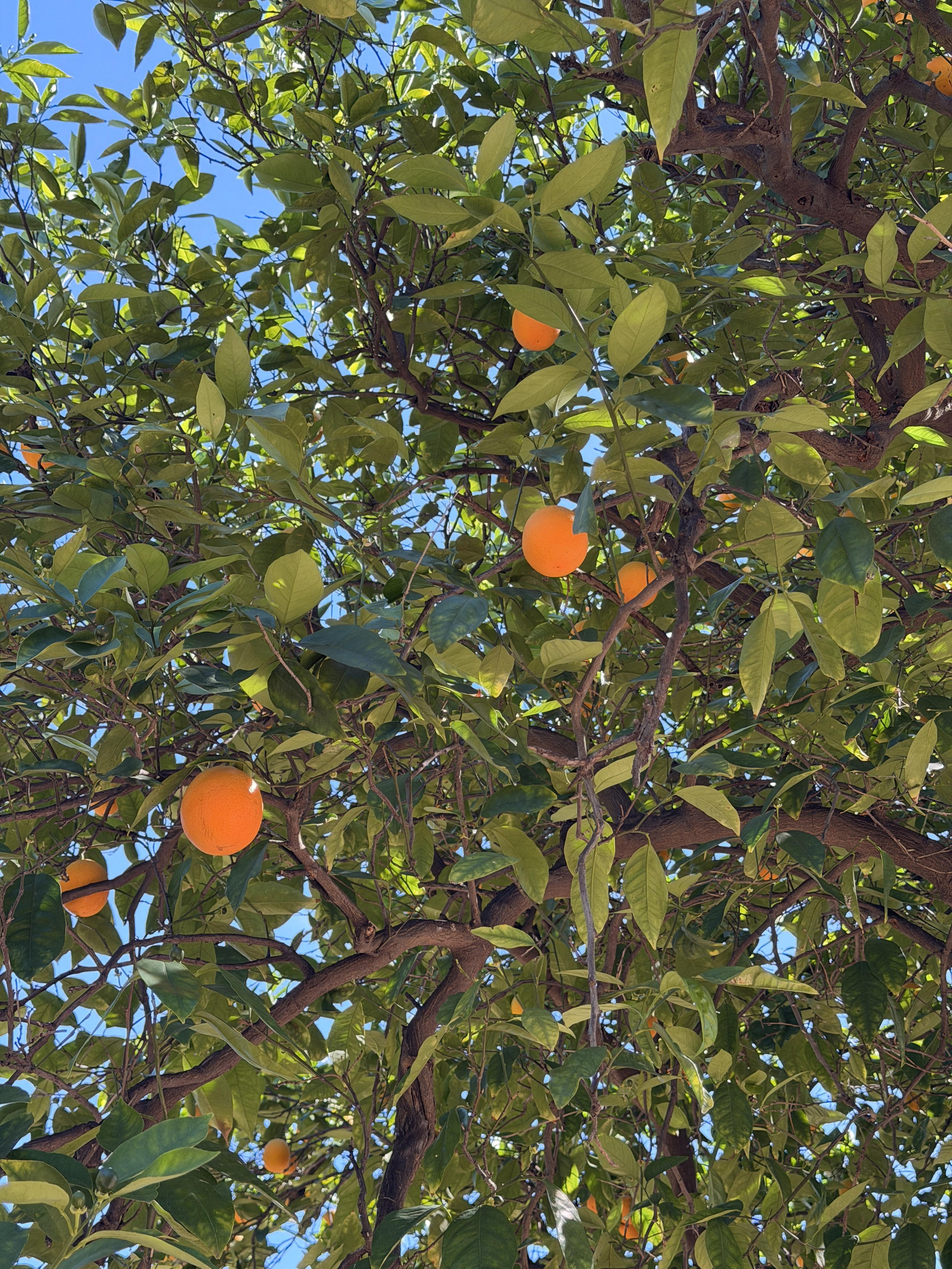orange: (180, 765, 263, 855), (522, 506, 588, 577), (59, 858, 109, 918), (512, 309, 561, 351), (615, 562, 658, 608), (925, 57, 952, 97), (263, 1138, 291, 1174), (20, 444, 54, 470)
